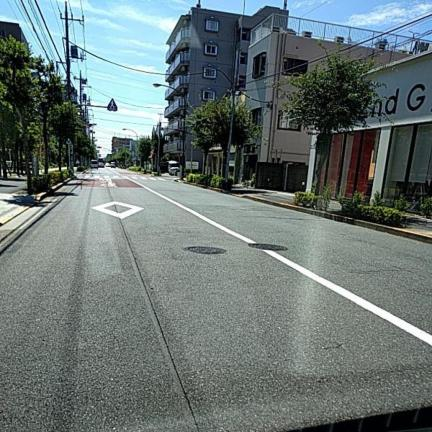Road: (0, 169, 431, 431)
